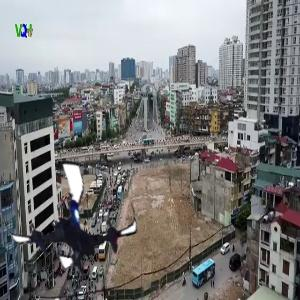drone: (3, 151, 140, 288)
